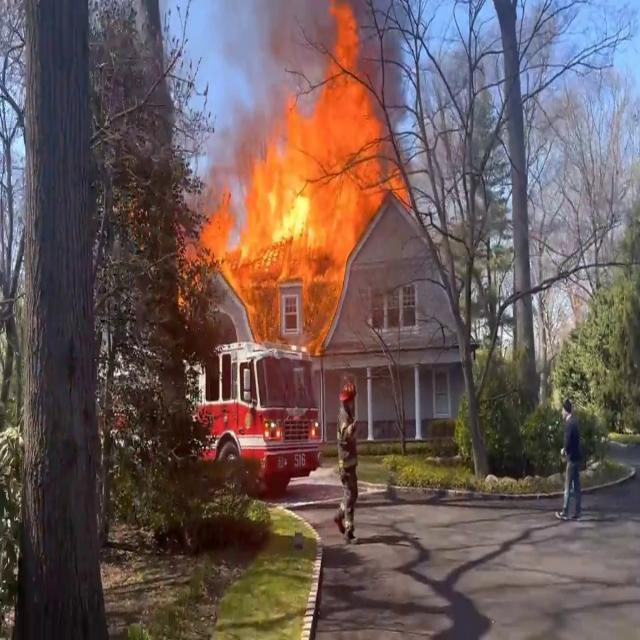Fire: (190, 12, 411, 333)
